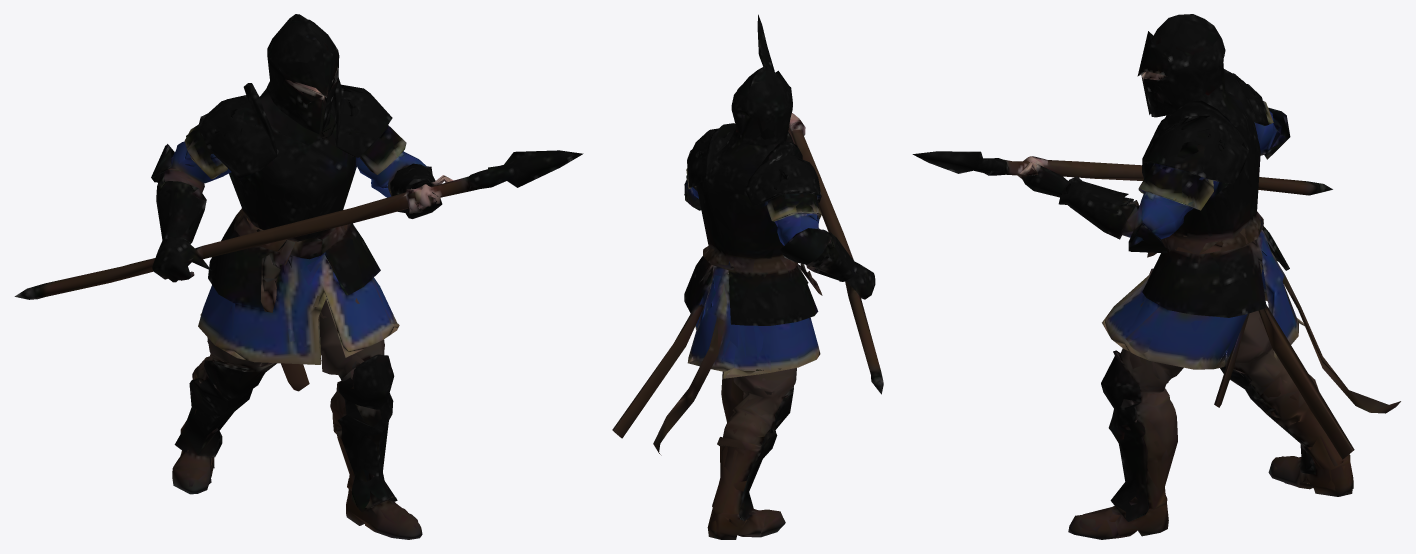
File: detail_2_lo.glb
3 views of the same model, side by side, from view 1: azimuth 30°, elevation 25°; view 2: azimuth 150°, elevation 25°; view 3: azimuth 270°, elevation 25° (orthographic). The views are drawn at different scales.
Visible parts, largest first — view 1: Mesh_0.001; view 2: Mesh_0.001; view 3: Mesh_0.001.
Part boxes in pixels (<box>): Mesh_0.001: <box>14,14,583,539</box>; Mesh_0.001: <box>612,14,883,539</box>; Mesh_0.001: <box>912,14,1400,539</box>.
Bounding box in the file's own units: 0.7523 × 0.997 × 0.894.
Materials: 1 (1 with a texture image).
